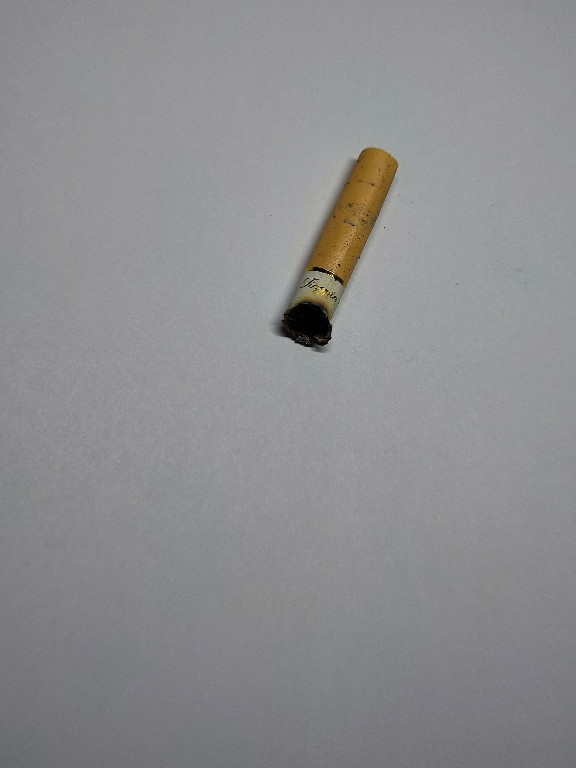cigarette: (277, 143, 400, 352)
